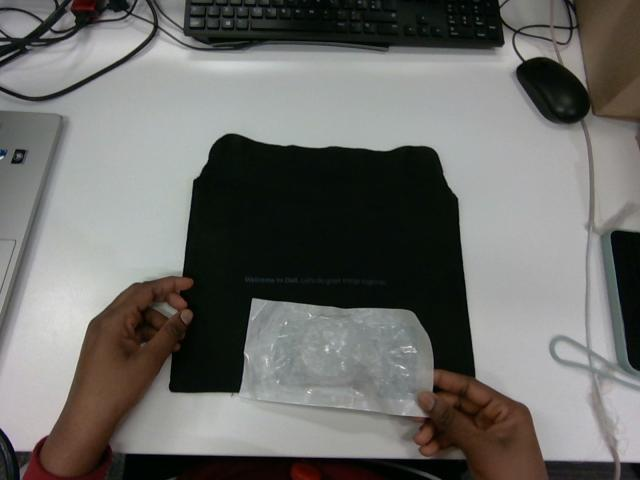gallipot: (240, 299, 432, 415)
